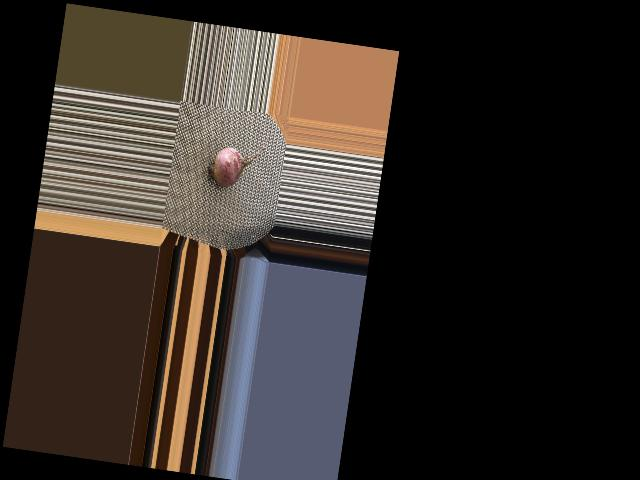beet: (205, 127, 268, 192)
